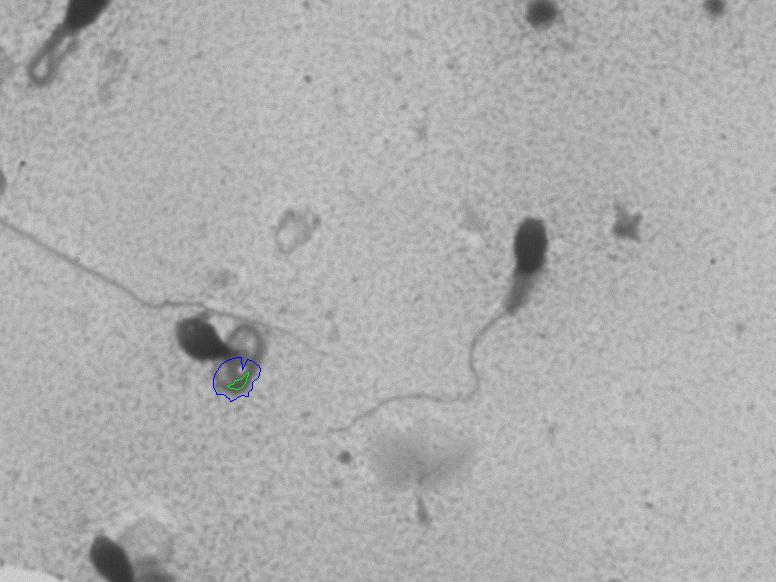Abnormal: (324, 197, 575, 468)
